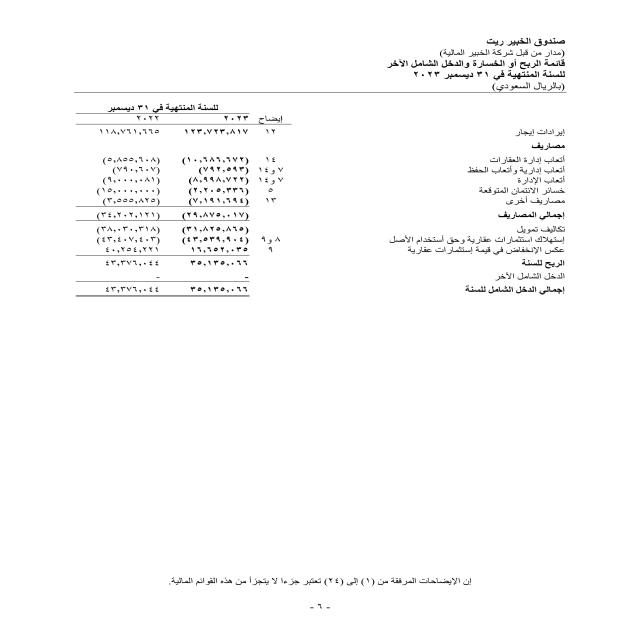financial_sheets: (384, 58, 574, 69)
table: (25, 98, 306, 309)
